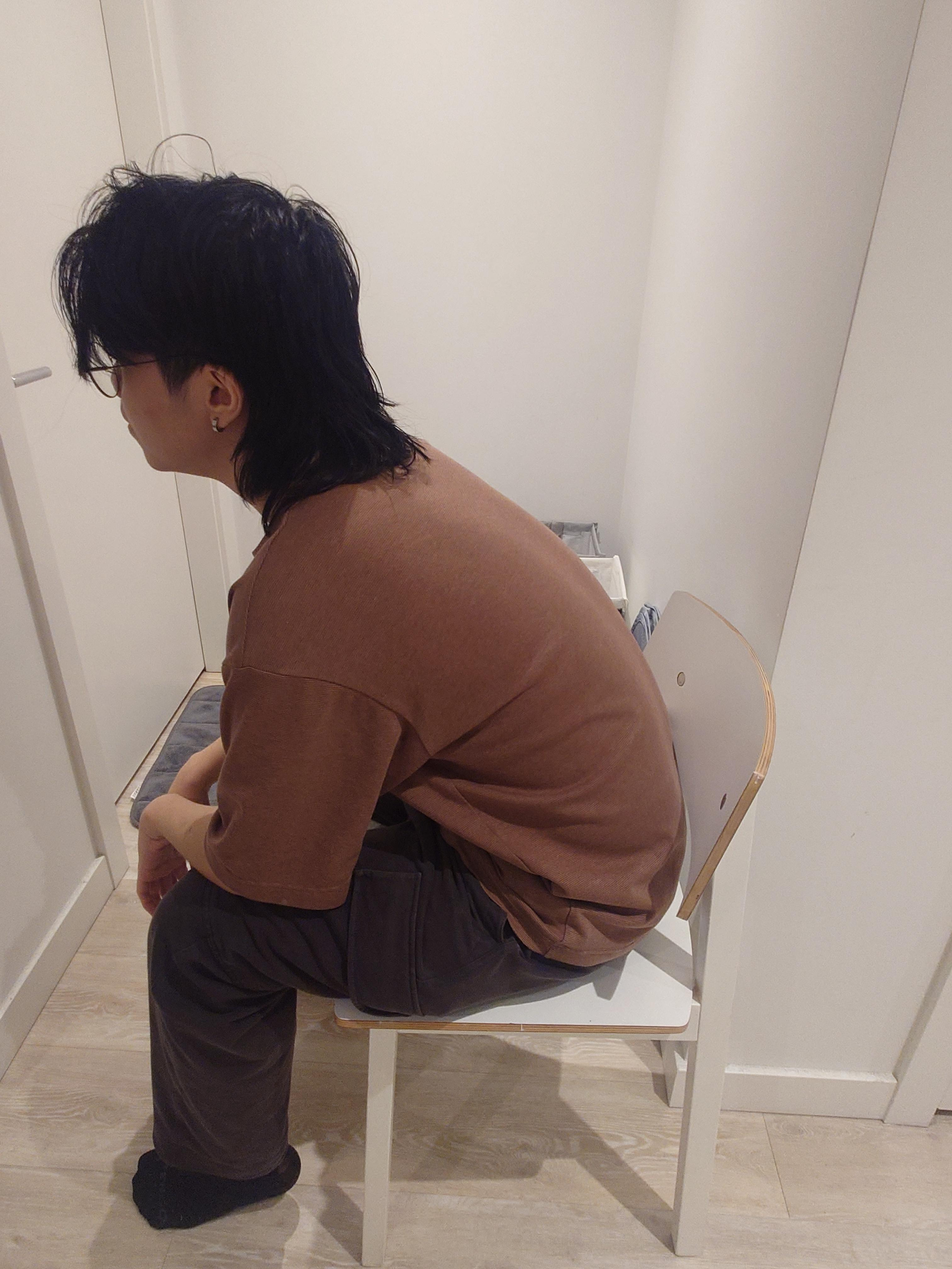BadPosture: (49, 170, 689, 1231)
